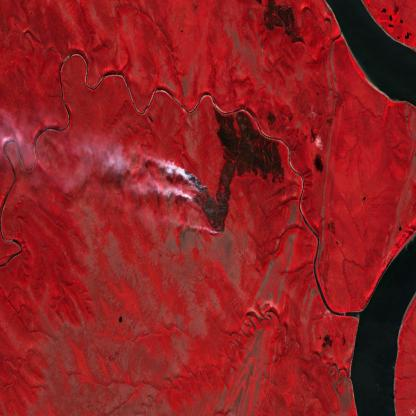fire: (180, 168, 228, 238)
